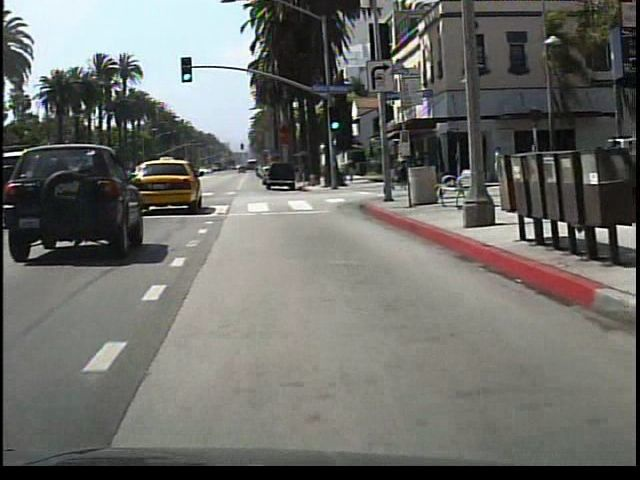person: (490, 142, 509, 188), (389, 149, 405, 195)
